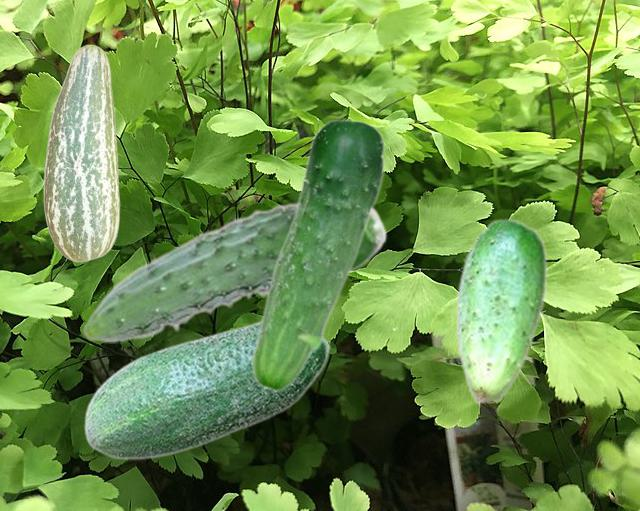cucumber: (82, 200, 387, 342), (249, 118, 385, 391), (83, 319, 330, 459), (455, 217, 546, 404), (43, 44, 119, 261)
